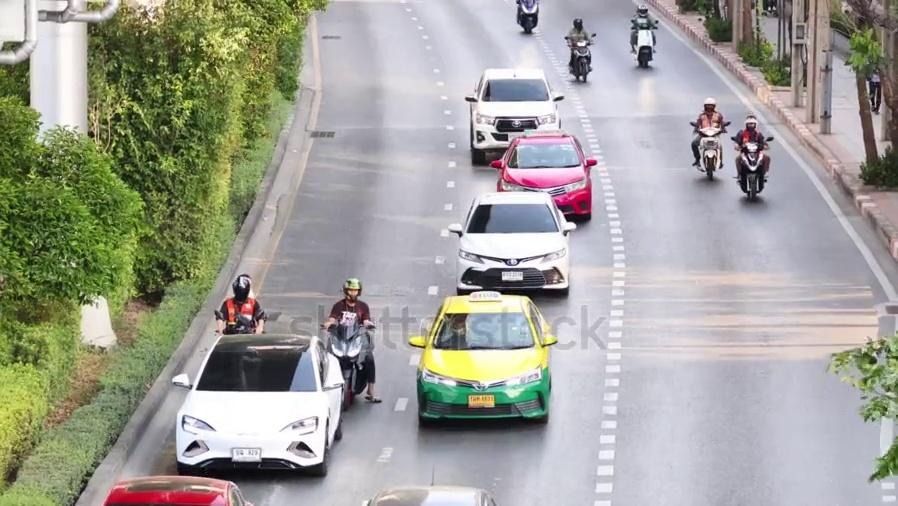rider: (322, 277, 382, 403), (213, 273, 266, 335), (731, 114, 771, 182), (689, 96, 724, 168), (564, 18, 592, 71), (629, 3, 658, 53)
with_helmate: (338, 276, 363, 302), (229, 276, 252, 298), (699, 99, 719, 114), (743, 117, 759, 134), (632, 5, 650, 19), (571, 18, 584, 33)
